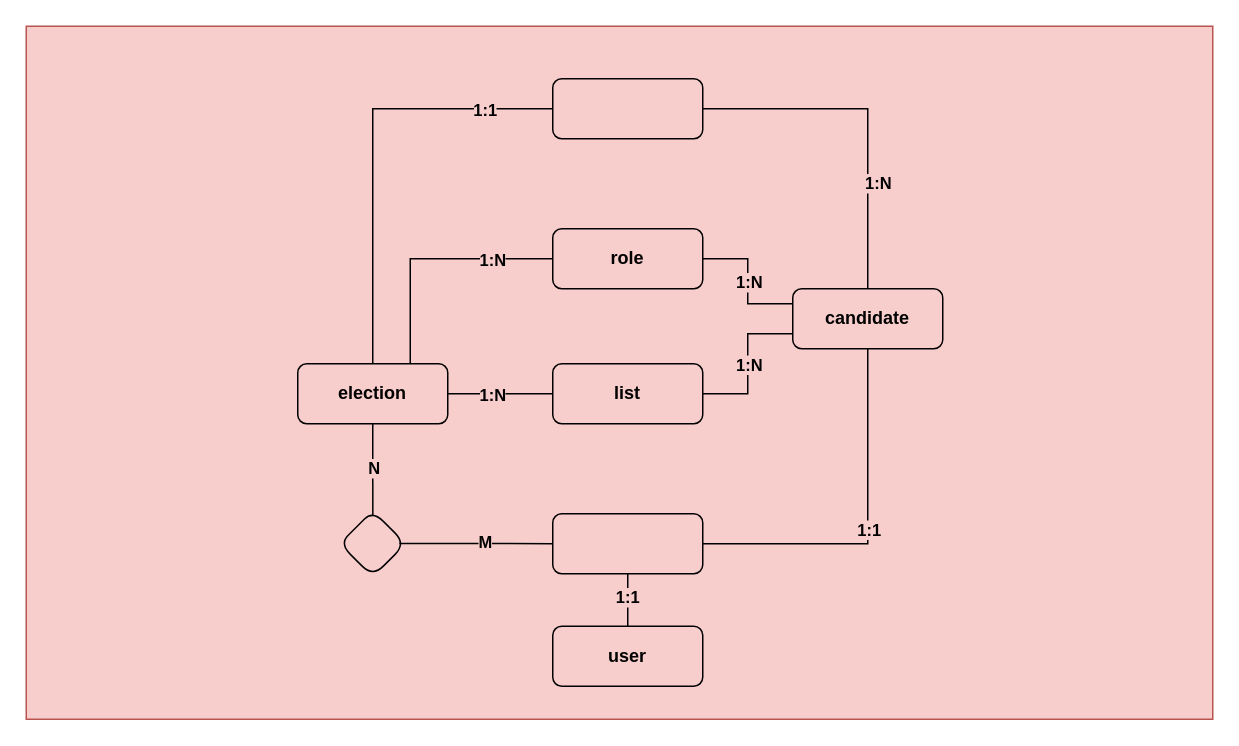
Image size: 1239x746. Some labels were removed from this diagram. Each missing label, with the centre of its shape:
delegation: point (627, 108)
vote: point (372, 543)
voter: point (627, 543)
